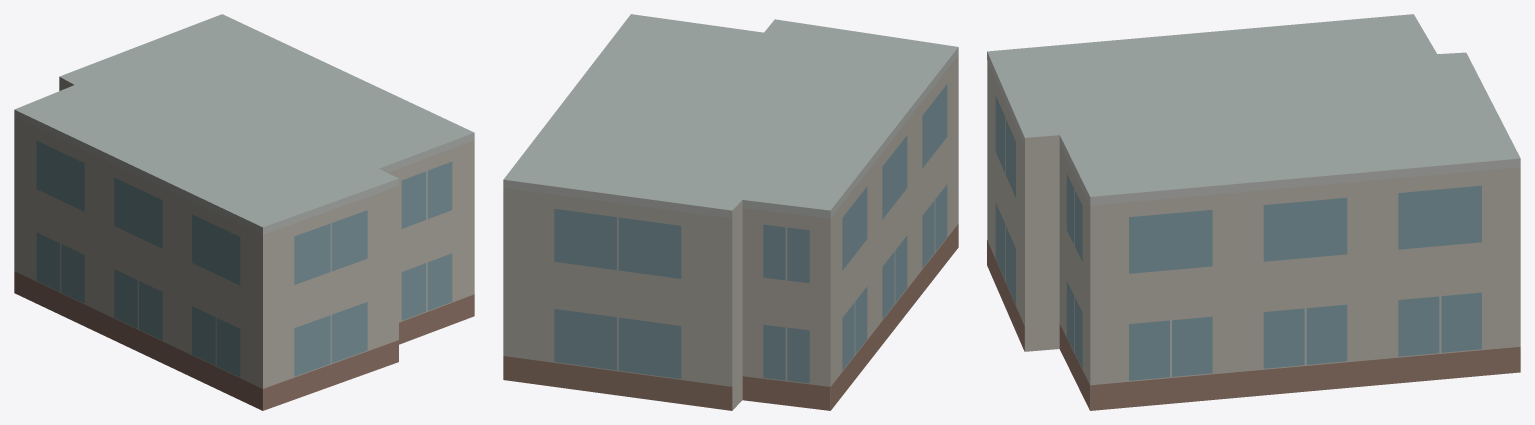
Rendered from survey-upis-32950136.glb.
The picture shows the model from 3 angles, left to right: view 1: azimuth 30°, elevation 25°; view 2: azimuth 150°, elevation 25°; view 3: azimuth 270°, elevation 25°; orthographic projection. The views are drawn at different scales.
Parts seen in each view (by area): view 1: survey-upis-32950136.tmp; view 2: survey-upis-32950136.tmp; view 3: survey-upis-32950136.tmp.
Boxes of the visible parts, box(x1,y1,x2,y2) form: survey-upis-32950136.tmp: box(14, 14, 474, 410); survey-upis-32950136.tmp: box(503, 14, 958, 410); survey-upis-32950136.tmp: box(987, 14, 1520, 410).
Bounding box in the file's own units: 11.2 × 6.1 × 13.8.
